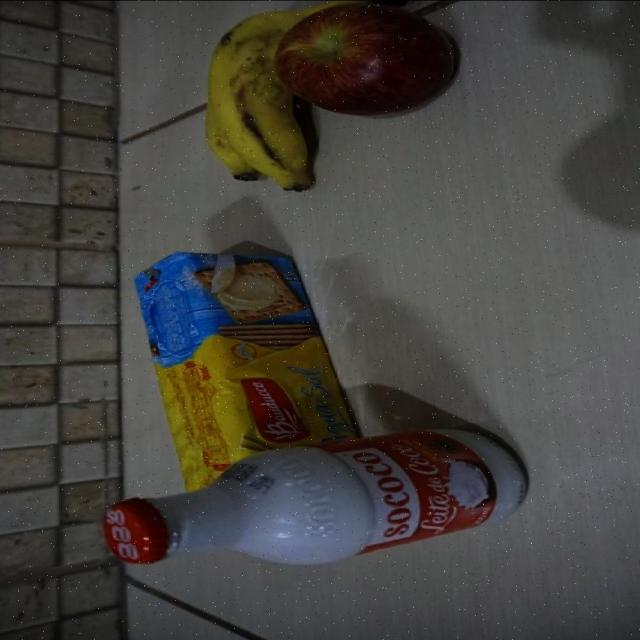Apple: (274, 2, 458, 118)
Banana: (205, 11, 317, 192)
CoconutMilk: (99, 427, 532, 568)
Cracker: (131, 251, 364, 493)
